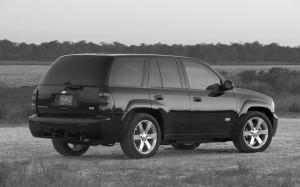car: (25, 51, 282, 164)
